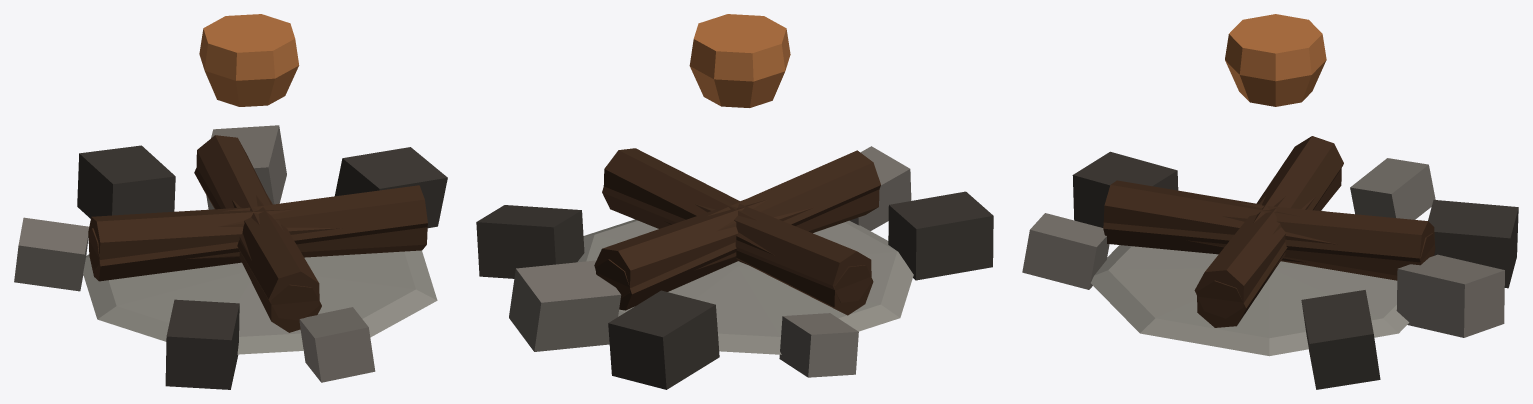
The picture shows the model from 3 angles, left to right: view 1: azimuth 30°, elevation 25°; view 2: azimuth 150°, elevation 25°; view 3: azimuth 270°, elevation 25°; orthographic projection. The views are drawn at different scales.
Visible parts, largest first — view 1: CF-主体; view 2: CF-主体; view 3: CF-主体.
Part boxes in pixels (box(x1,y1,x2,y2)): CF-主体: box(14, 14, 447, 389); CF-主体: box(476, 14, 993, 389); CF-主体: box(1022, 14, 1518, 389).
Bounding box in the file's own units: 1.4 × 0.8858 × 1.56.
Materials: 1 (1 with a texture image).
